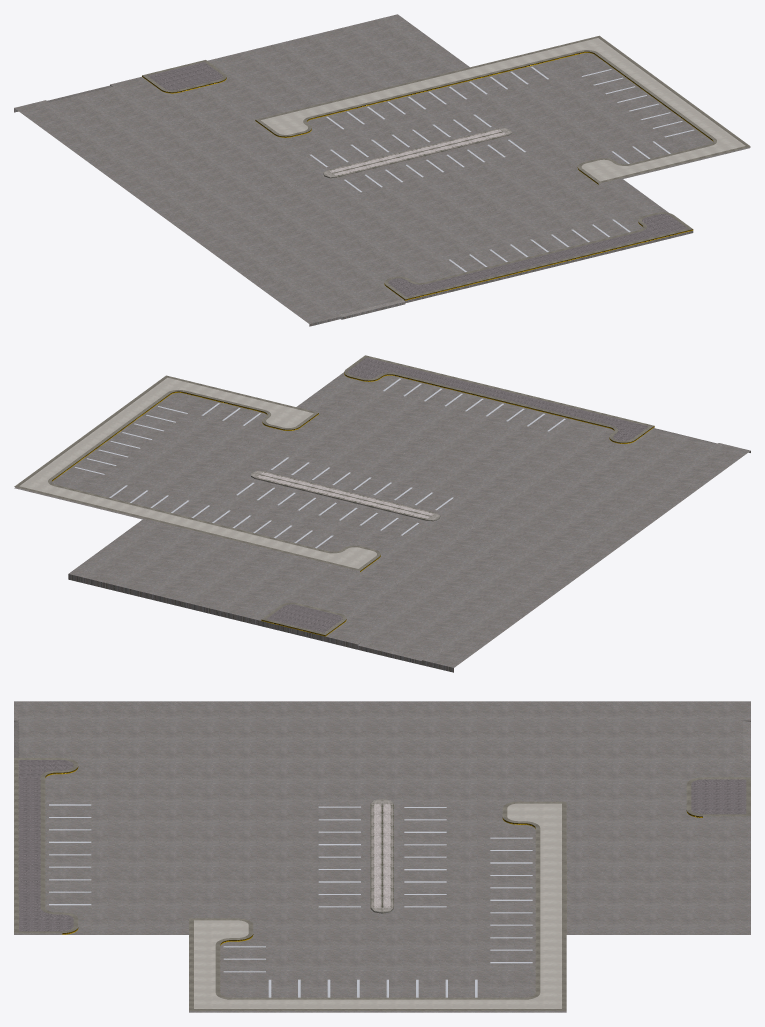
Rendered from arprtcrprk04_lvs.obj.
3 views of the same model, one above another, from view 1: azimuth 30°, elevation 25°; view 2: azimuth 150°, elevation 25°; view 3: azimuth 270°, elevation 25° (orthographic). The views are drawn at different scales.
Visible parts, largest first — view 1: arprtcrprk04_lvS; view 2: arprtcrprk04_lvS; view 3: arprtcrprk04_lvS.
Part boxes in pixels (left/top/right/bottom): arprtcrprk04_lvS: left=14, top=14, right=750, bottom=326; arprtcrprk04_lvS: left=14, top=355, right=750, bottom=672; arprtcrprk04_lvS: left=14, top=701, right=750, bottom=1012.
Size of the model in its own units: 80 by 1.06 by 80.02.
8 materials, 8 textured.
